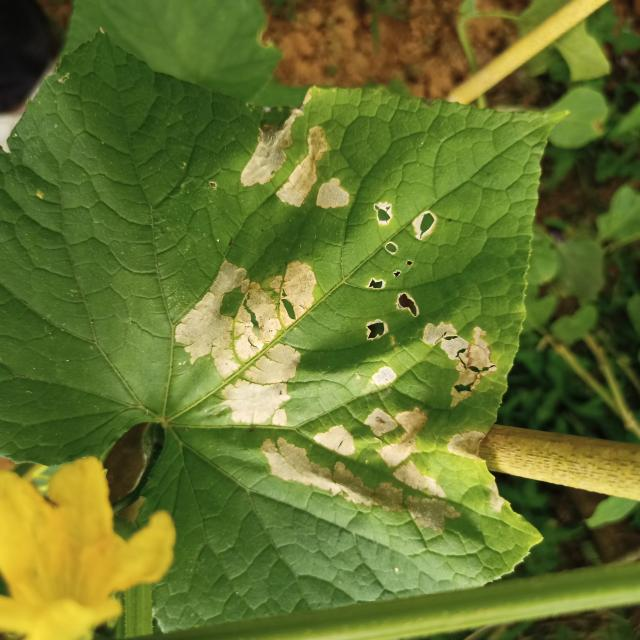disease_cucumber: (174, 106, 496, 534)
